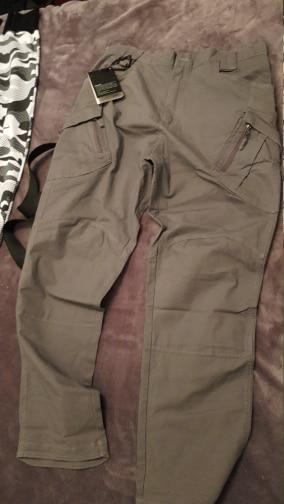pants: (19, 40, 284, 481)
